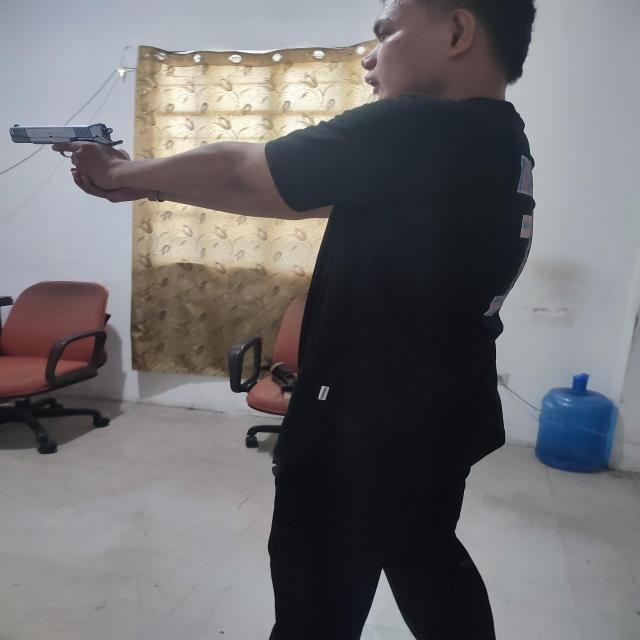pistol: (10, 123, 123, 157)
